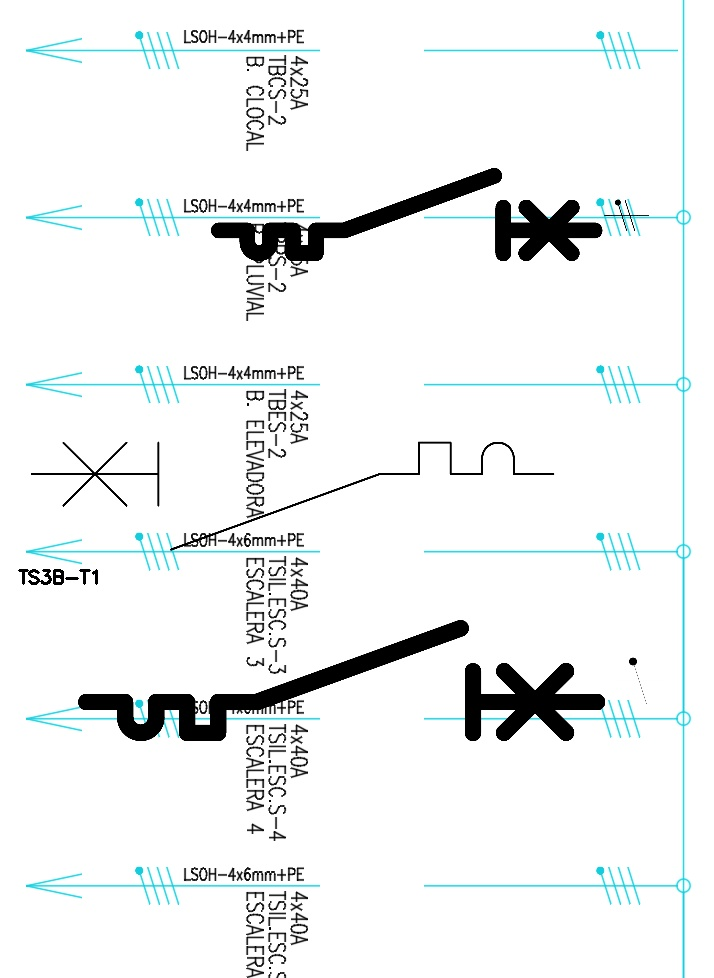interruptor_termomagnetico: (18, 429, 567, 563), (73, 615, 610, 746), (209, 166, 604, 263)
